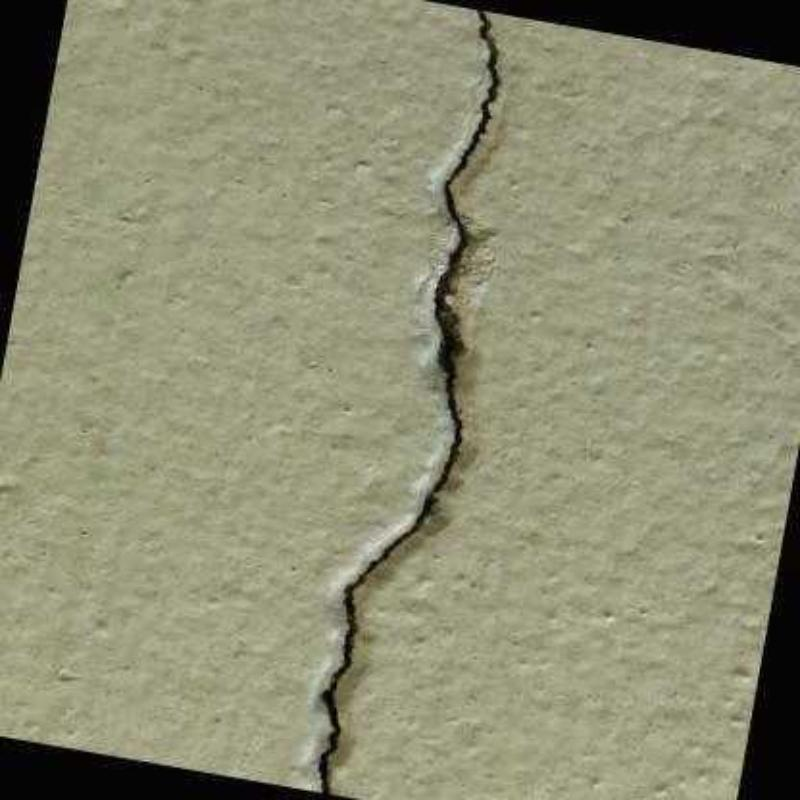pothole: (319, 12, 498, 798)
